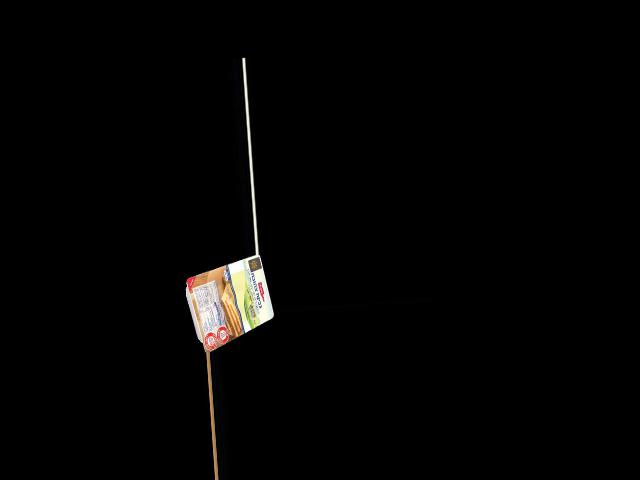cheese: (185, 261, 274, 339)
